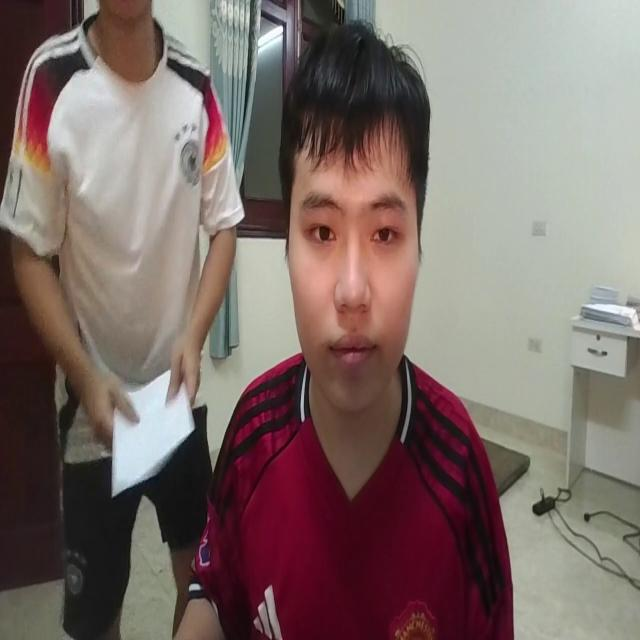book: (110, 364, 200, 492)
extra_person: (2, 0, 242, 640)
student: (199, 15, 513, 640)
